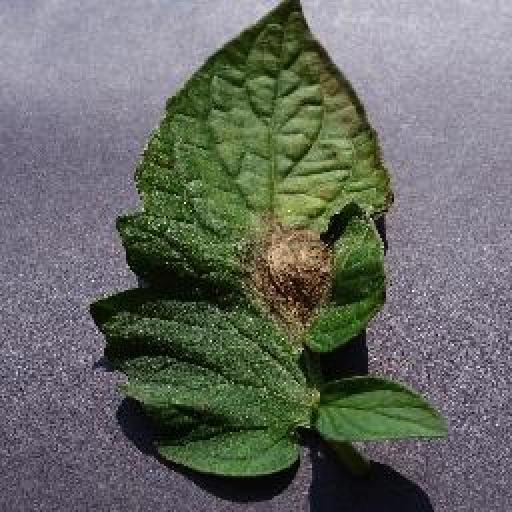disease_tomato: (86, 0, 452, 476)
